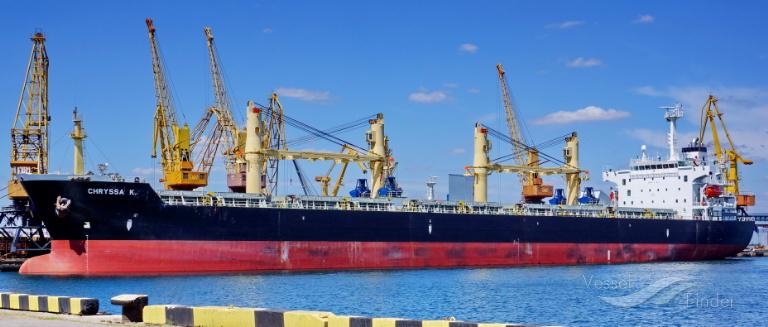OCR: (83, 180, 124, 205)
